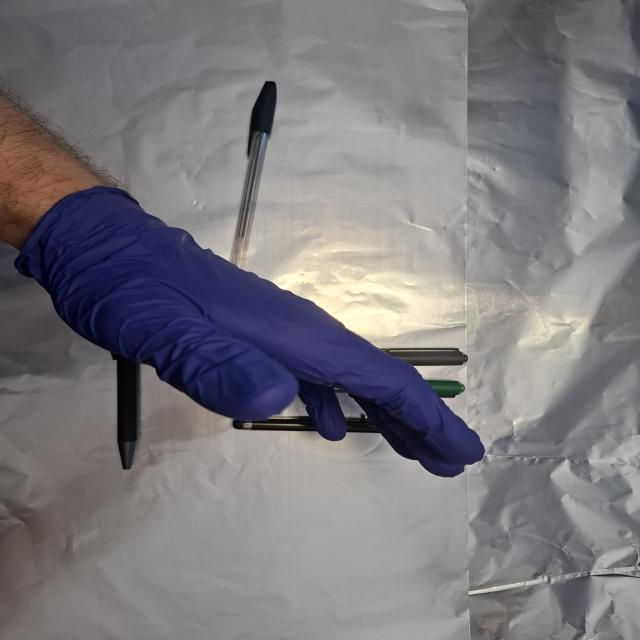glove_on: (18, 184, 490, 483)
